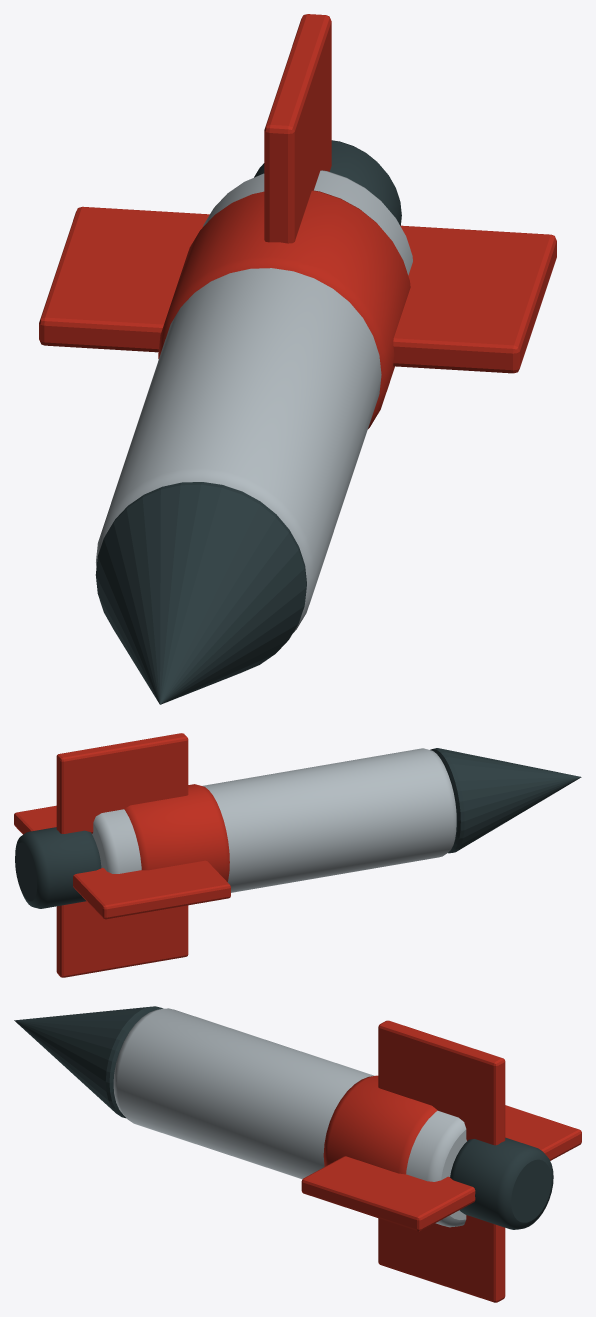
Rendered from battlecity-rocket-item.glb.
3 renders of one model, top to bottom at view 1: azimuth 30°, elevation 25°; view 2: azimuth 150°, elevation 25°; view 3: azimuth 270°, elevation 25°, orthographic. The views are drawn at different scales.
Visible parts, largest first — view 1: Red apron paint, DX chrome, DX dark machinery; view 2: Red apron paint, DX chrome, DX dark machinery; view 3: Red apron paint, DX chrome, DX dark machinery.
Boxes of the visible parts, x1,y1,x2,y2 form: Red apron paint: (39,14,556,428); DX chrome: (96,170,412,632); DX dark machinery: (95,140,401,704); Red apron paint: (14,733,230,977); DX chrome: (92,748,456,892); DX dark machinery: (15,748,581,908); Red apron paint: (301,1020,581,1302); DX chrome: (113,1008,466,1227); DX dark machinery: (14,1006,553,1229).
Bounding box in the file's own units: 0.5754 × 0.316 × 0.6748.
